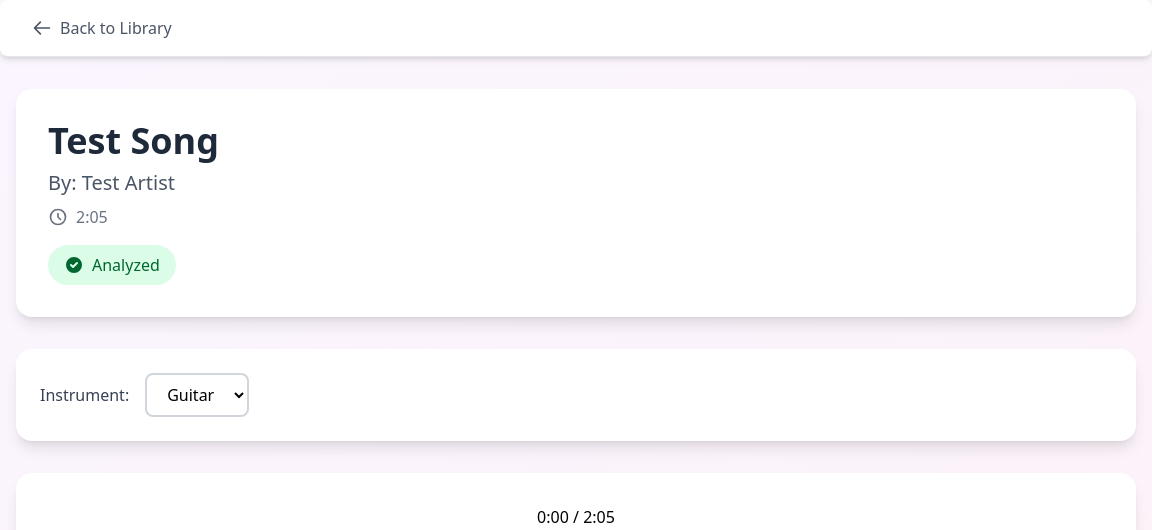
it: SongDetailPage › returns to the library without an active audio player
The width and height of the screenshot is (1152, 530).
Check: the heading "Test Song" is shown, box [48,121,219,161]
What coordinates should you click on to do the following:
click the button "Back to Library"
I would click on:
 (102, 28)
Its box is [32,16,172,40].
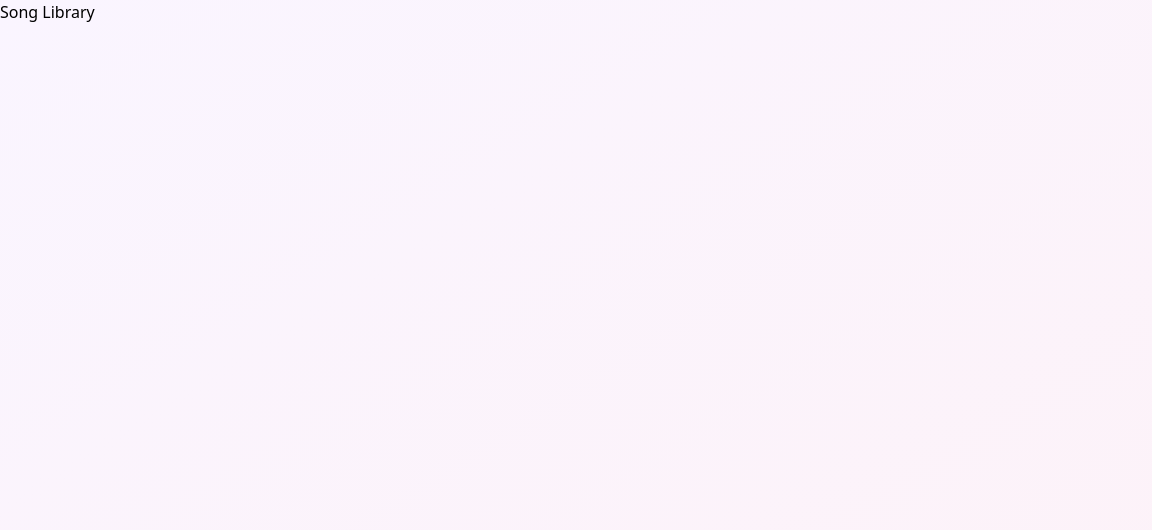
Check: the text "Song Library" is shown, box [0,1,95,23]
